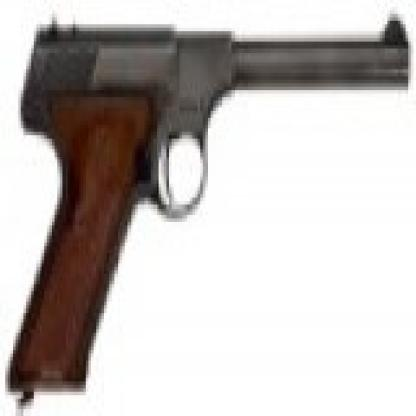handgun: (8, 7, 408, 385)
